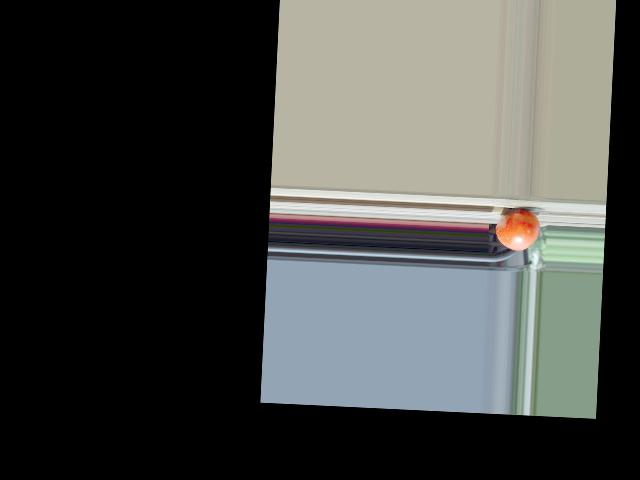tomato: (495, 209, 541, 252)
